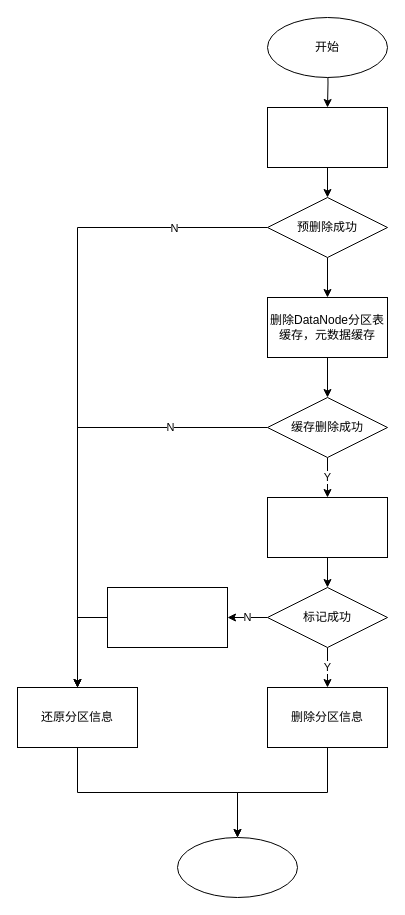
The diagram is 405 pixels wide and 915 high, and some of its shapes have lost their labels. The centre of each missing label's shape, as x and y in pixels:
"标记Region" belongs at (x=327, y=527).
"移除标记" belongs at (x=167, y=617).
"结束" belongs at (x=237, y=867).
"预删除PartitionInfo" belongs at (x=327, y=137).
